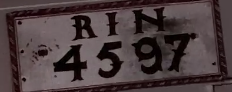RIN4597: (5, 3, 228, 88)
